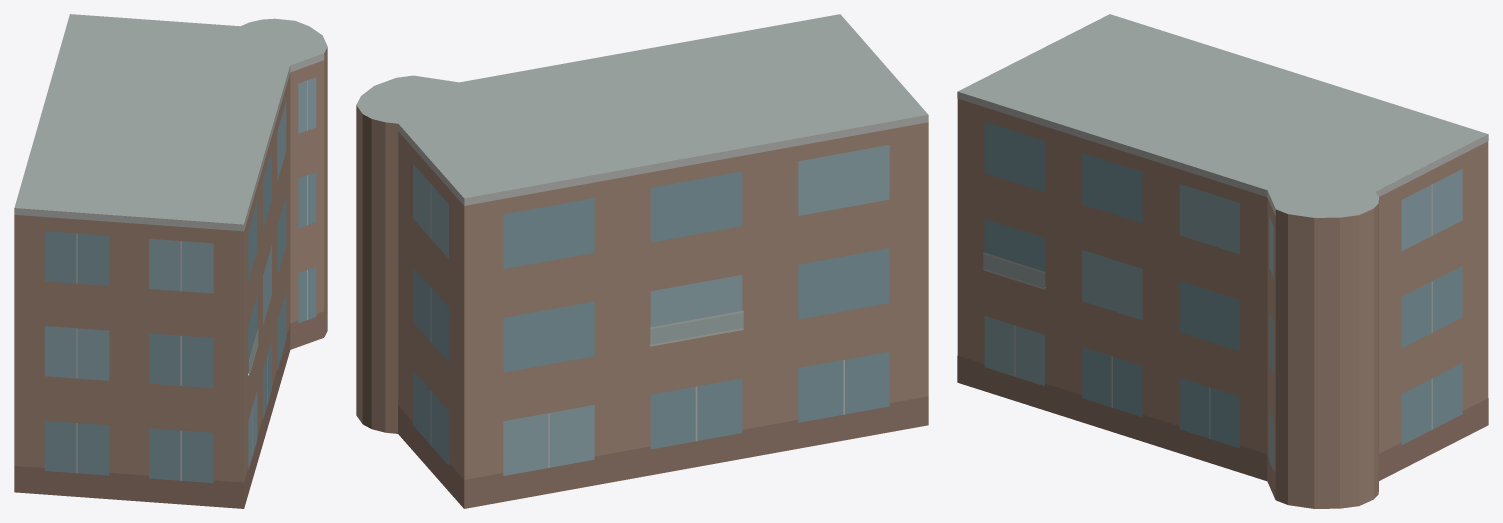
Rendered from survey-upis-32670082.glb.
3 views of the same model, side by side, from view 1: azimuth 30°, elevation 25°; view 2: azimuth 150°, elevation 25°; view 3: azimuth 270°, elevation 25° (orthographic). The views are drawn at different scales.
Parts seen in each view (by area): view 1: survey-upis-32670082.tmp; view 2: survey-upis-32670082.tmp; view 3: survey-upis-32670082.tmp.
Part boxes in pixels (x1,y1,x2,y2): survey-upis-32670082.tmp: (14,14,327,508); survey-upis-32670082.tmp: (356,14,928,508); survey-upis-32670082.tmp: (957,14,1488,508).
Bounding box in the file's own units: 15.33 × 10.2 × 16.87.
